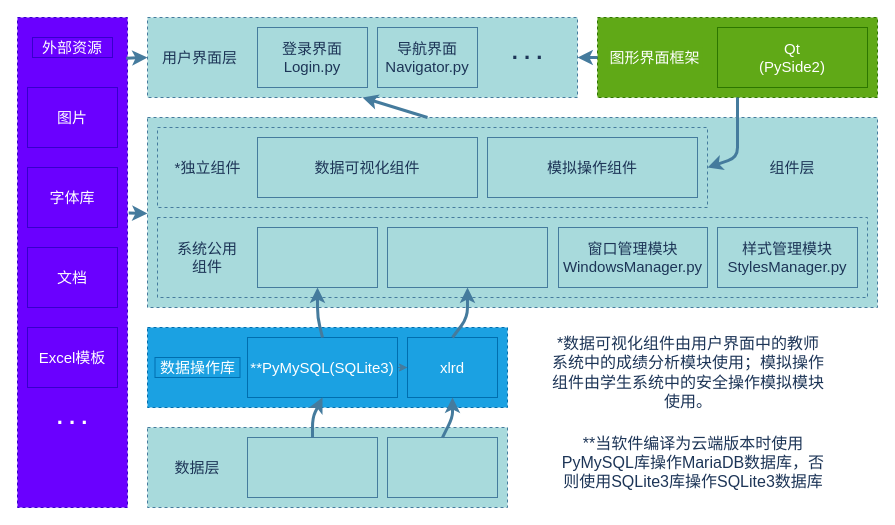
Image size: 895x525. Some labels were removed from this diagram. The shapes that lost their labels are listed below. From the top down, each one's centre as x and y in pixels, then its label:
point 317,257: 数据库接入模块DataManager.py
point 467,257: 外部Excel文件接入模块ExcelManager.py
point 312,467: **数据库(MariaDB/SQLite)
point 442,467: Excel外部文件(*.xls)
